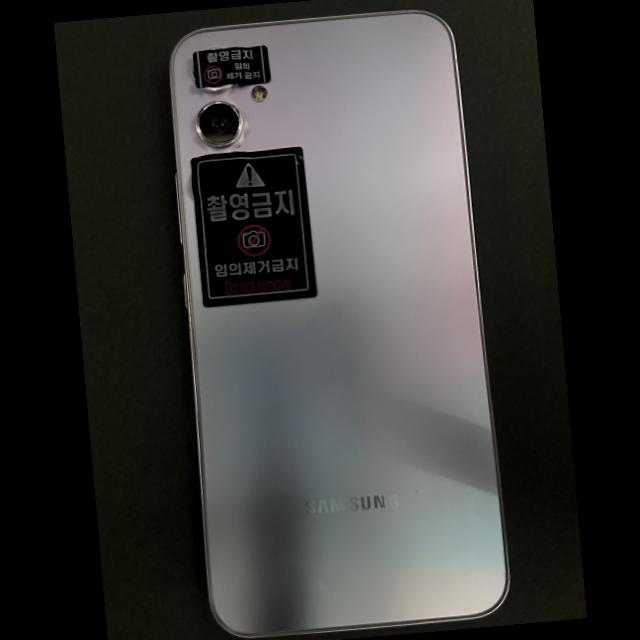lens: (196, 100, 241, 146)
phone: (169, 10, 508, 637)
sticker: (191, 147, 316, 306), (192, 45, 270, 88)
